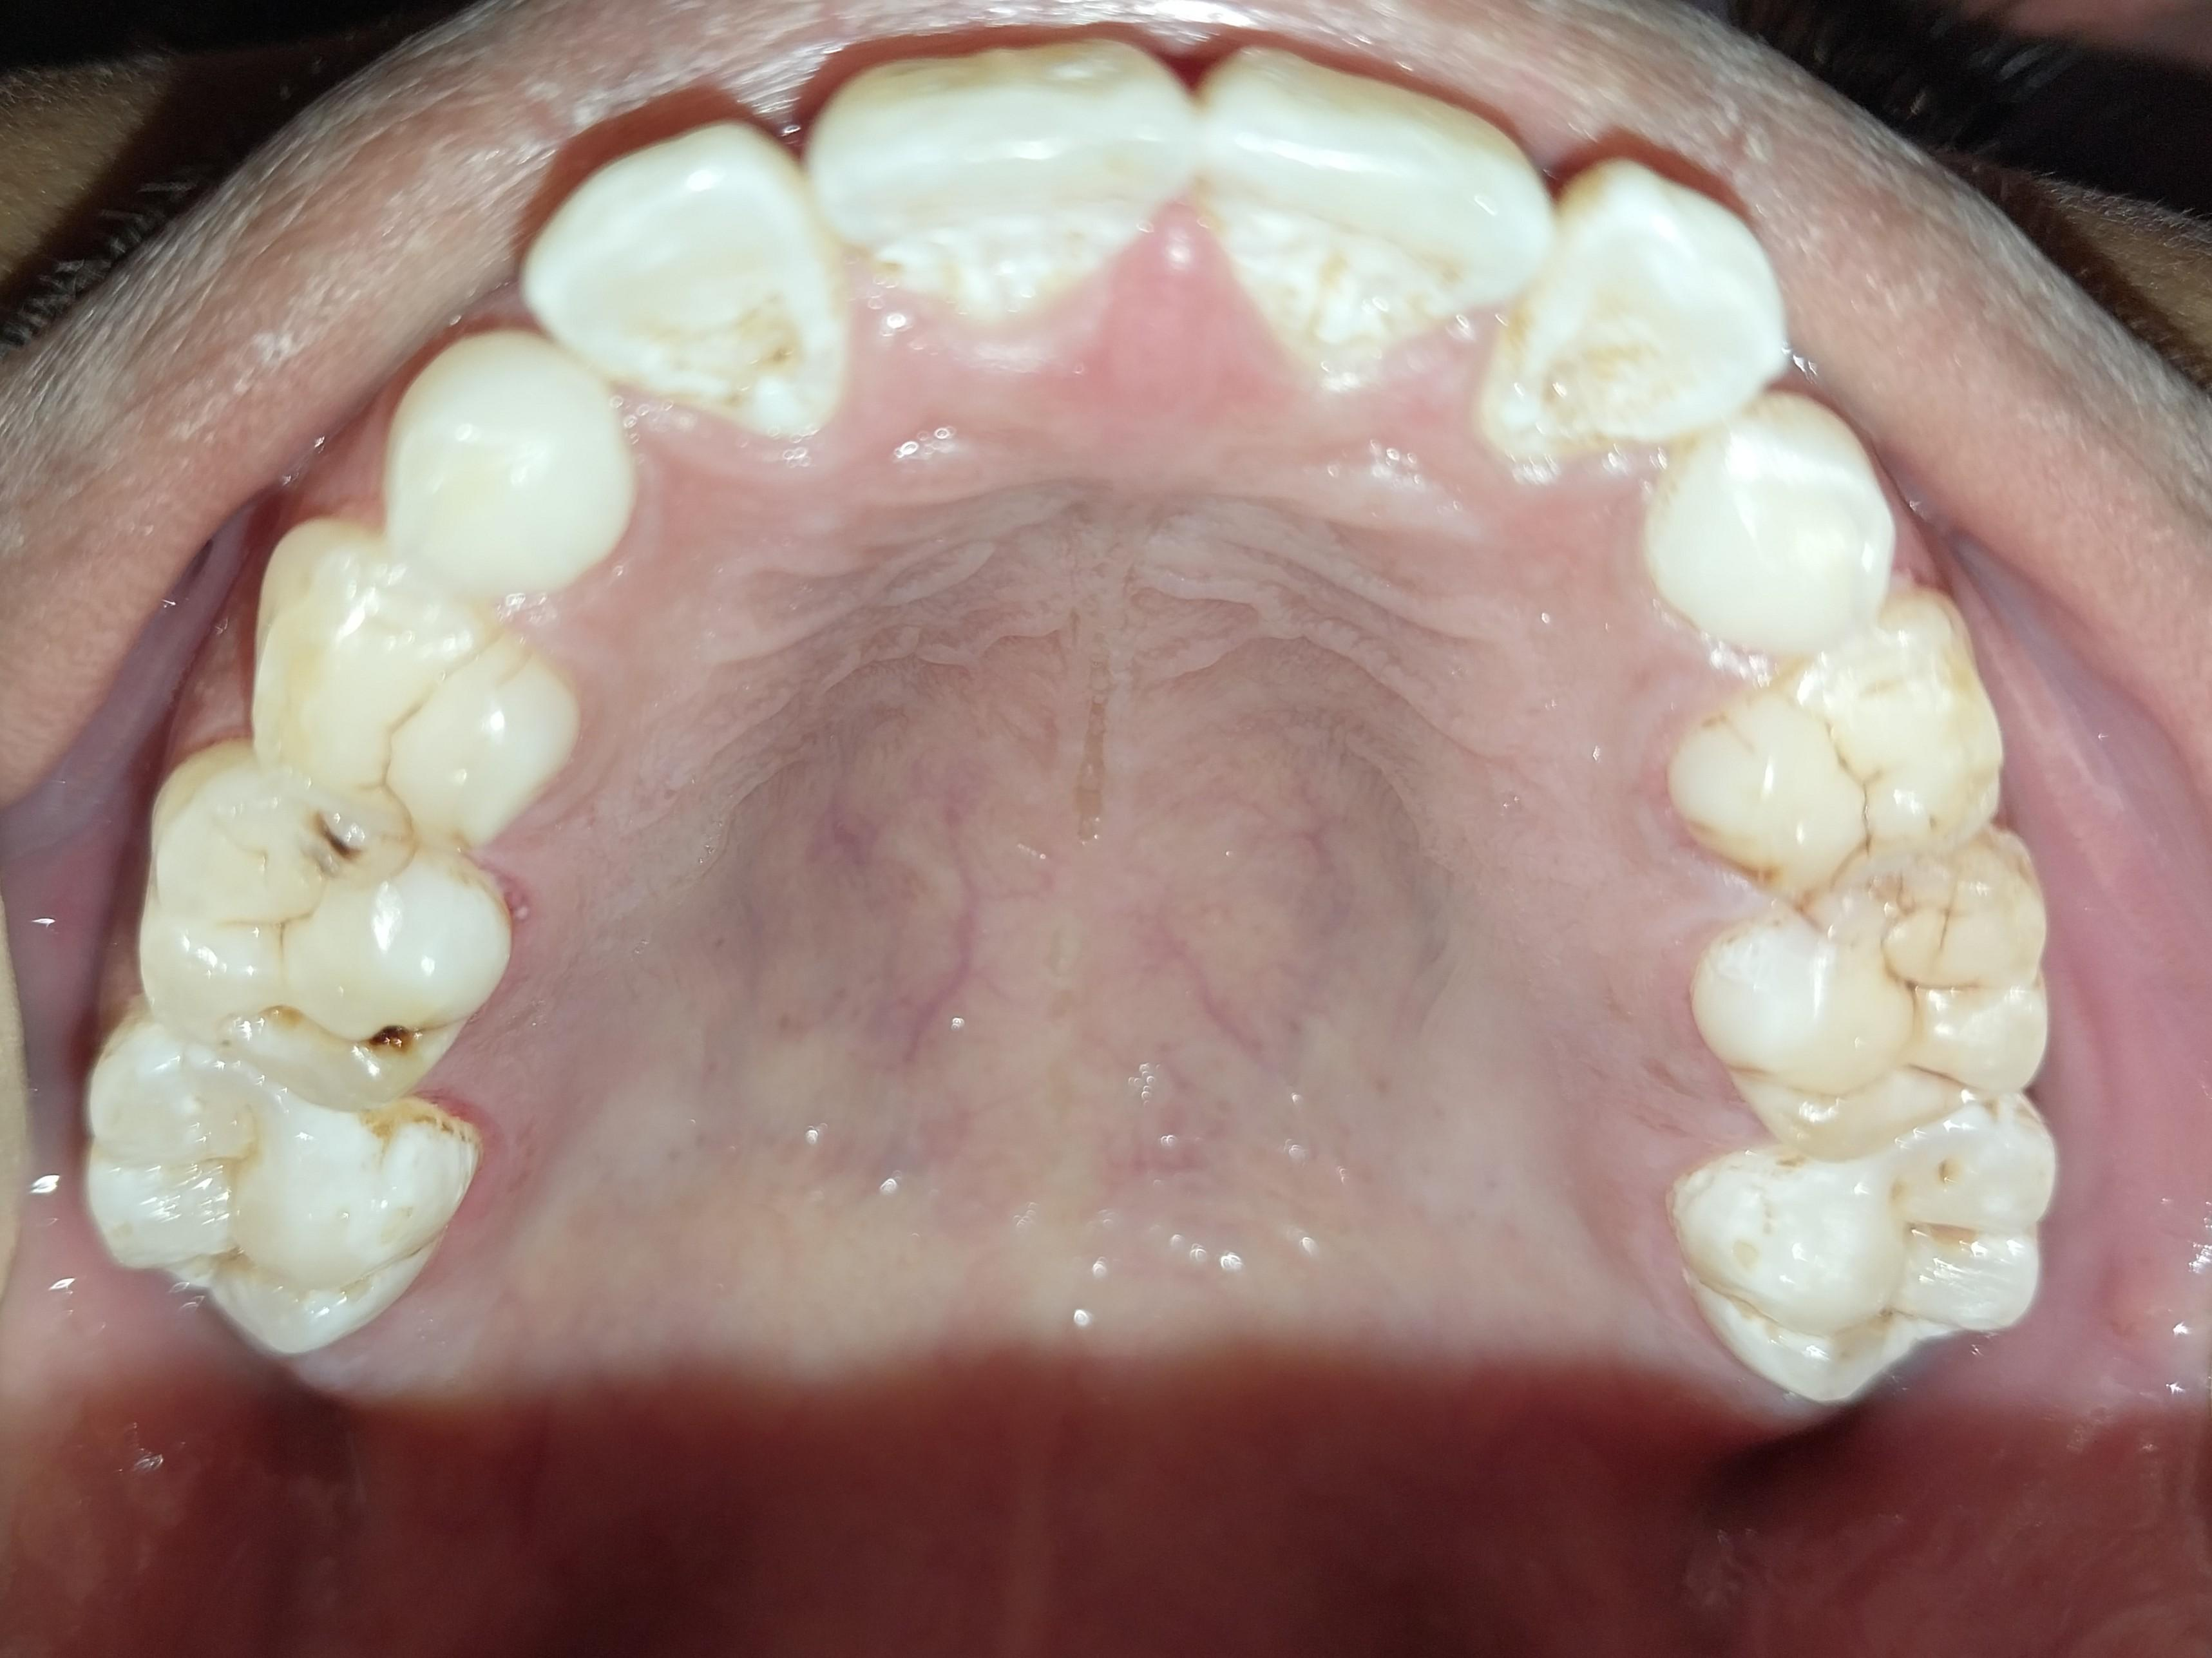d: (149, 753, 503, 1101)
